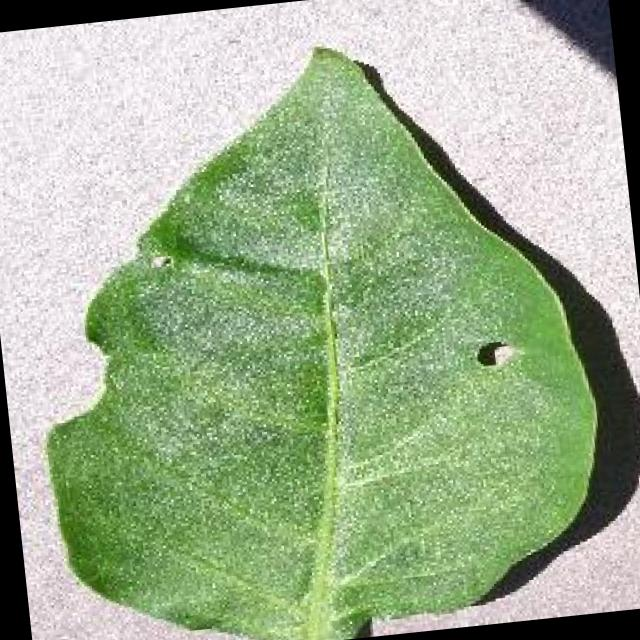Chilli_Healthy: (0, 16, 619, 640)
